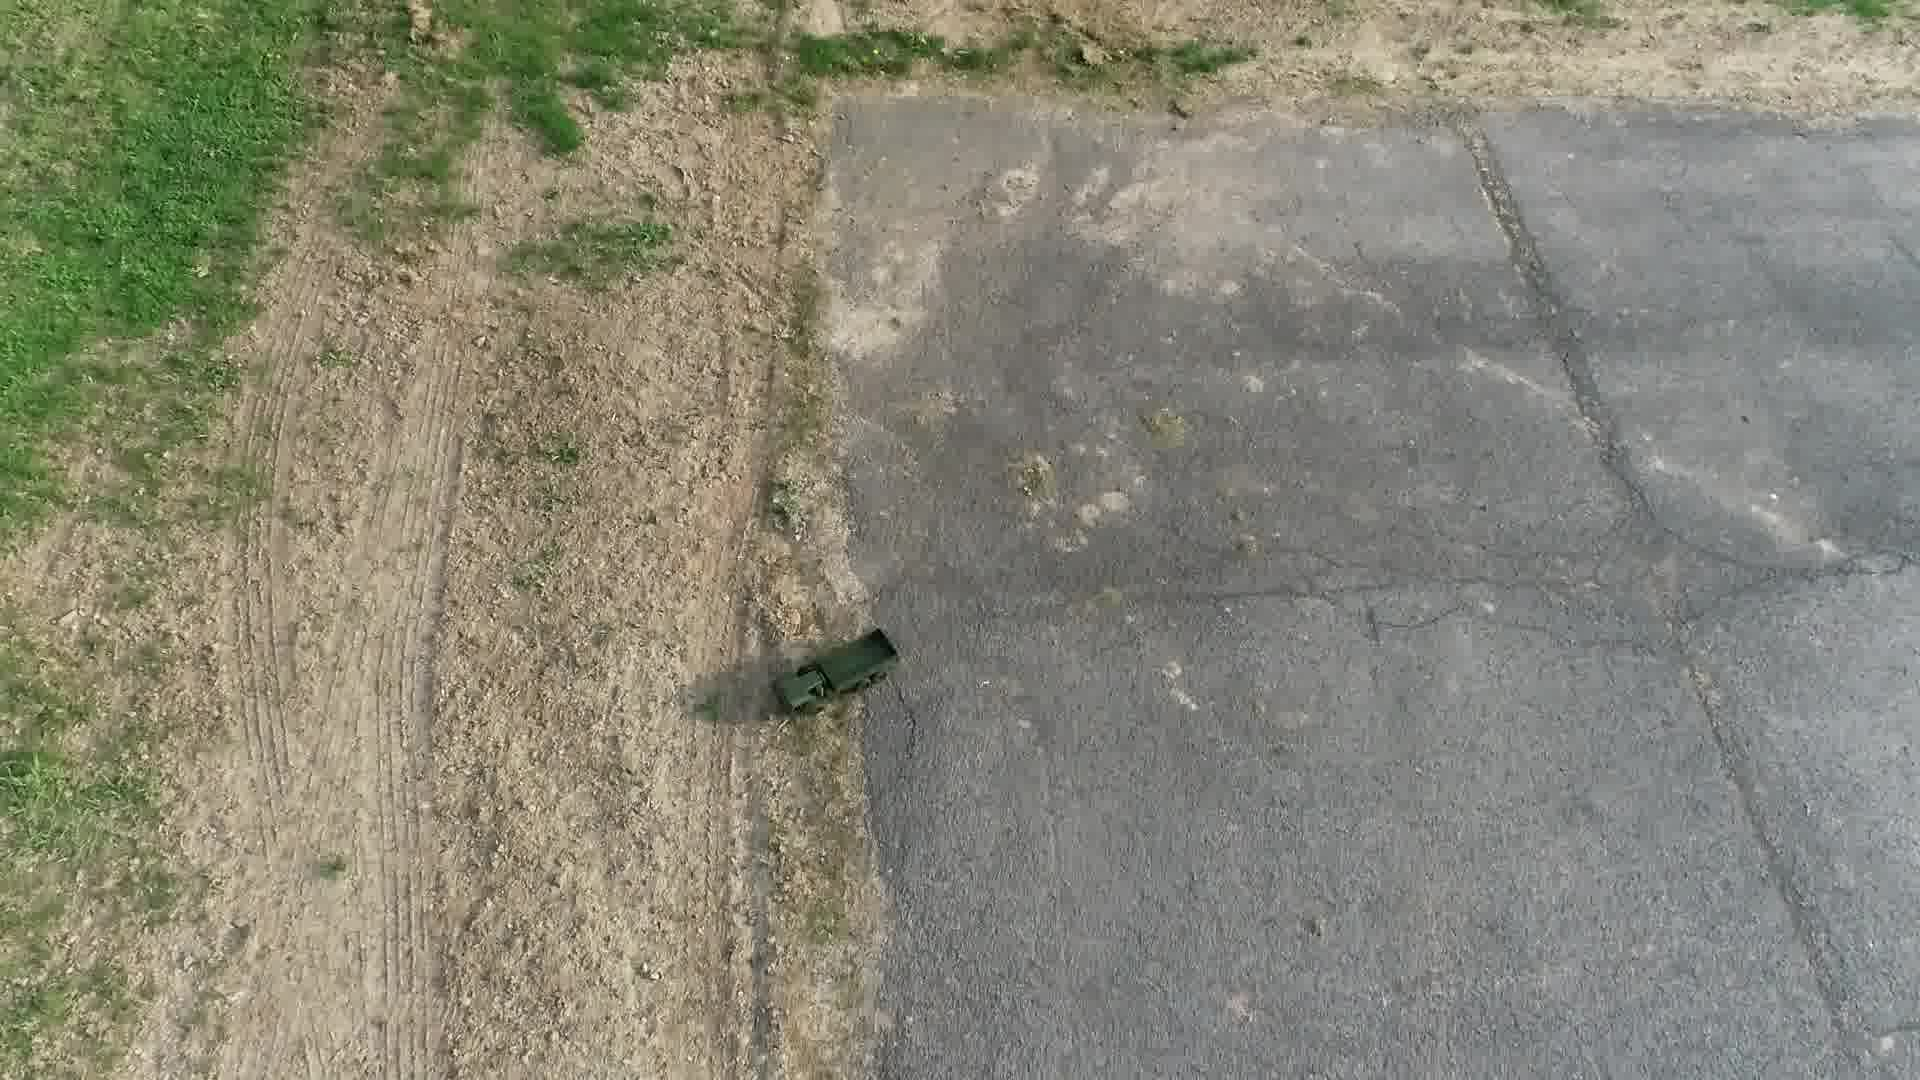transporter9: (762, 622, 906, 728)
